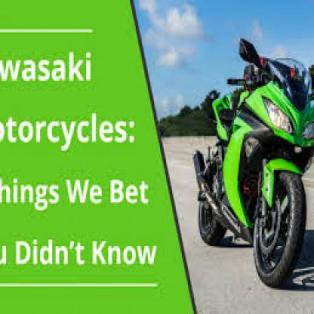Motocicleta: (186, 36, 312, 286)
